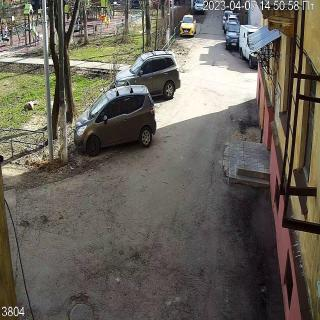Car: (74, 82, 156, 157), (113, 49, 181, 99), (239, 24, 265, 69), (226, 20, 240, 50), (180, 15, 196, 38), (224, 13, 238, 34), (222, 10, 234, 30), (194, 0, 206, 14)
